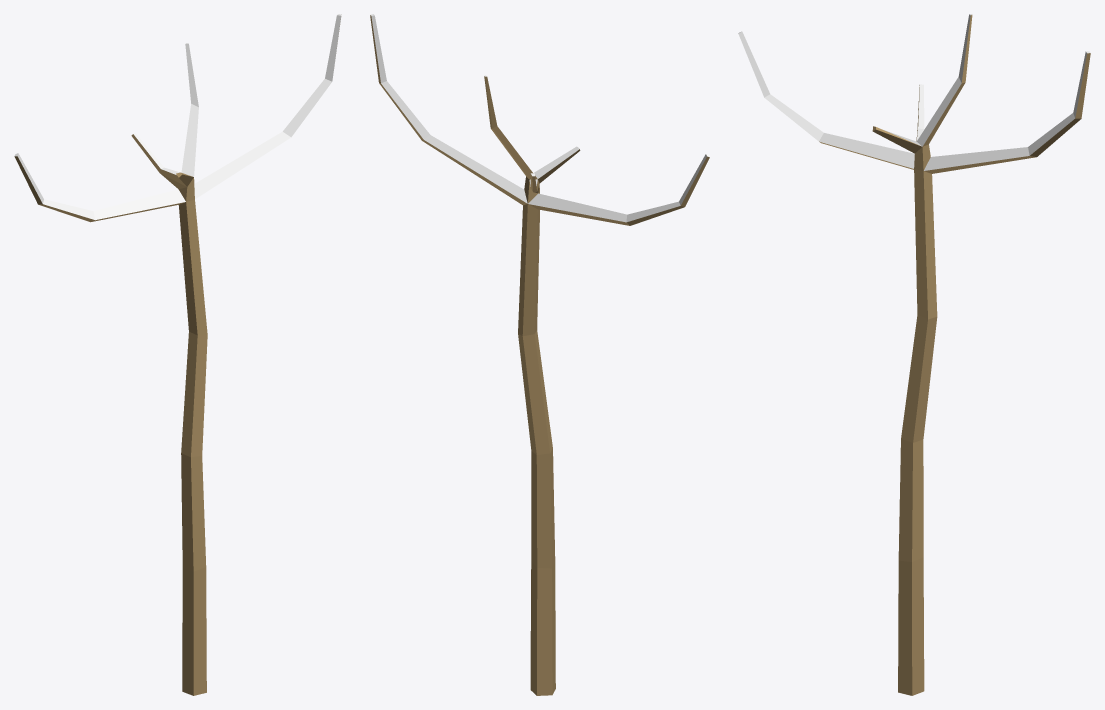
File: Acacia_Tree_NoLeaves_m_Snow_03.fbx
3 views of the same model, side by side, from view 1: azimuth 30°, elevation 25°; view 2: azimuth 150°, elevation 25°; view 3: azimuth 330°, elevation 25° (orthographic). The views are drawn at different scales.
Parts seen in each view (by area): view 1: Acacia_Tree_NoLeaves_m_Snow_03; view 2: Acacia_Tree_NoLeaves_m_Snow_03; view 3: Acacia_Tree_NoLeaves_m_Snow_03.
Part boxes in pixels (left/top/right/bottom): Acacia_Tree_NoLeaves_m_Snow_03: left=14, top=14, right=341, bottom=695; Acacia_Tree_NoLeaves_m_Snow_03: left=370, top=14, right=709, bottom=695; Acacia_Tree_NoLeaves_m_Snow_03: left=738, top=14, right=1090, bottom=695.
Bounding box in the file's own units: 415 × 758 × 102.
